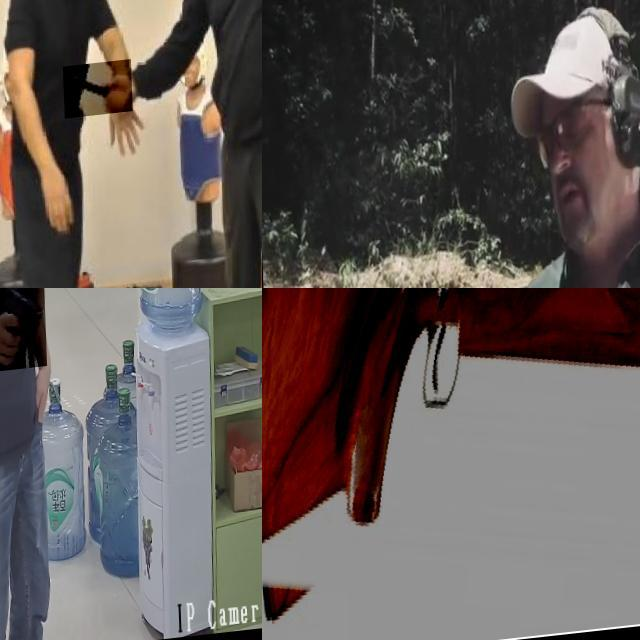-: (61, 66, 130, 124)
gun-knife-thesis - v11 Yolov5 augmented: (262, 288, 640, 640), (0, 288, 44, 379)
